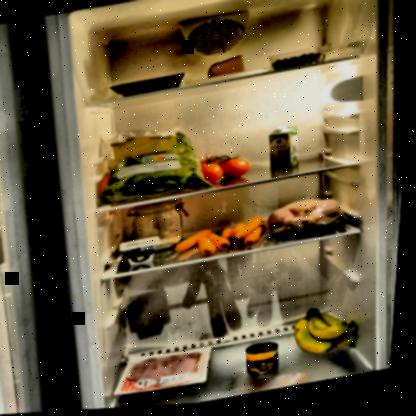banana: (288, 301, 371, 366)
blueberries: (273, 53, 327, 74)
carrot: (174, 216, 274, 263)
cheese: (206, 54, 249, 84)
chicken: (266, 192, 354, 248)
corn: (247, 342, 287, 381)
heavy_cream: (265, 128, 303, 179)
spinach: (98, 125, 217, 210)
tomato: (193, 148, 256, 190)
